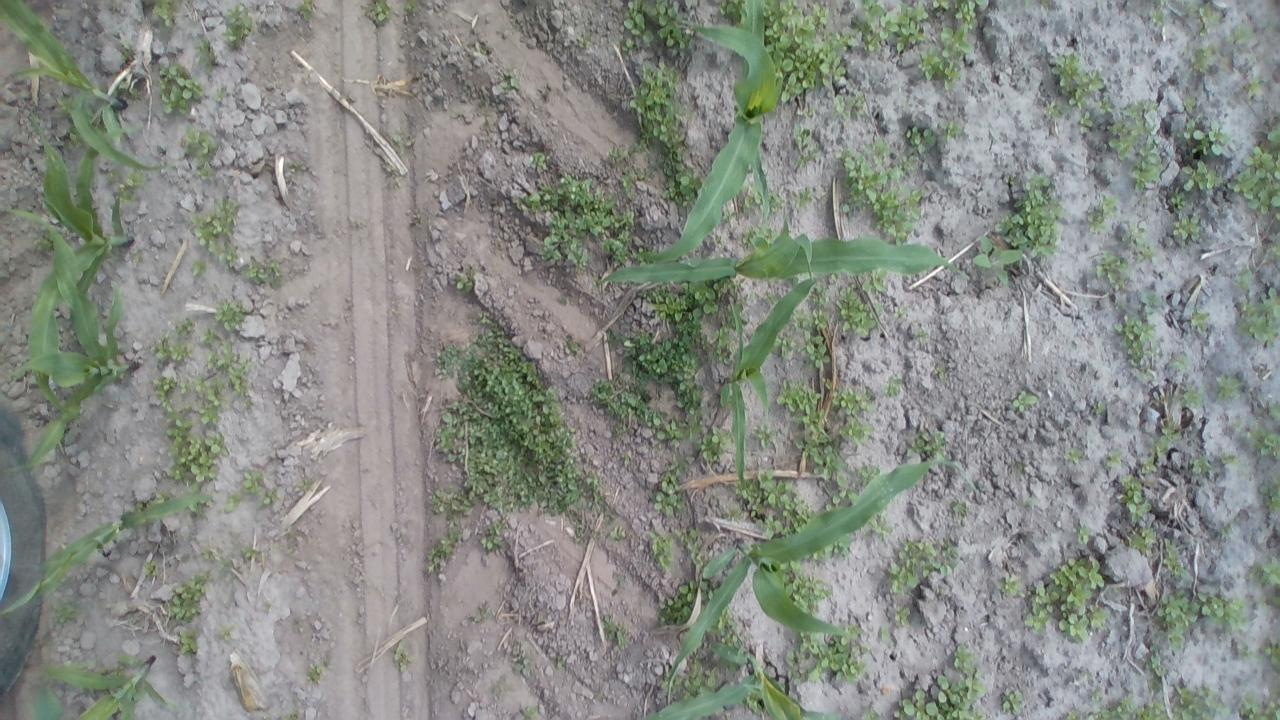Maize: (667, 460, 952, 706), (633, 0, 786, 263), (22, 113, 138, 420), (7, 209, 138, 476), (597, 207, 962, 282), (0, 0, 158, 172), (0, 492, 213, 614), (720, 272, 824, 494), (654, 636, 842, 720), (33, 656, 179, 718)
Weeds: (427, 313, 614, 518), (524, 176, 632, 269), (761, 0, 856, 104), (606, 322, 701, 420), (840, 150, 924, 240), (182, 327, 255, 423), (776, 373, 842, 478), (1032, 557, 1112, 642), (998, 174, 1062, 258), (924, 0, 988, 79), (1229, 121, 1280, 220), (630, 60, 684, 146), (892, 674, 987, 718), (620, 0, 690, 56), (887, 538, 959, 592), (166, 420, 224, 483), (797, 633, 867, 685), (588, 376, 652, 430), (1051, 52, 1106, 107), (1116, 312, 1158, 384), (220, 469, 278, 516), (1234, 285, 1278, 346), (784, 564, 834, 613), (736, 470, 796, 510), (158, 64, 205, 115), (1144, 419, 1181, 481), (972, 237, 1019, 285), (1056, 693, 1139, 720), (426, 522, 468, 575), (662, 151, 703, 205), (1231, 418, 1280, 463), (836, 289, 880, 339), (193, 196, 240, 242), (1198, 594, 1252, 634), (168, 574, 210, 622), (1184, 117, 1232, 158), (860, 0, 894, 54), (1133, 142, 1168, 193), (1174, 684, 1227, 717), (648, 468, 686, 514), (894, 3, 928, 53), (1158, 591, 1198, 632), (1118, 475, 1150, 523), (1183, 160, 1225, 195), (1094, 252, 1131, 290), (180, 124, 217, 162), (242, 253, 279, 290), (740, 186, 790, 213), (648, 413, 691, 444), (1108, 118, 1143, 156), (800, 329, 833, 369), (644, 284, 686, 315), (600, 614, 632, 654), (680, 658, 716, 693), (702, 324, 734, 362), (223, 6, 253, 46), (698, 426, 728, 463), (214, 300, 252, 327), (1086, 194, 1113, 231), (618, 166, 650, 197), (688, 284, 718, 317), (792, 131, 818, 169), (650, 532, 676, 570), (1116, 221, 1150, 250), (824, 475, 856, 505), (908, 432, 946, 457), (792, 304, 828, 330), (1163, 538, 1188, 575), (212, 241, 240, 274), (834, 388, 872, 412), (782, 500, 814, 528), (153, 337, 191, 360), (906, 127, 938, 154), (1125, 98, 1159, 123), (868, 513, 897, 542), (1176, 383, 1205, 412), (118, 172, 146, 202), (1240, 696, 1278, 718), (658, 596, 692, 620), (1146, 0, 1176, 27), (1214, 373, 1245, 399), (604, 147, 632, 175), (840, 417, 874, 440), (452, 264, 478, 294), (498, 65, 524, 95), (1224, 22, 1256, 46), (834, 96, 866, 120), (150, 0, 178, 27), (861, 270, 890, 296), (482, 518, 504, 552), (1254, 556, 1277, 588), (1128, 526, 1156, 552), (392, 640, 413, 674), (1145, 644, 1167, 676), (1138, 290, 1164, 317), (722, 612, 741, 648), (467, 602, 498, 624), (1190, 307, 1212, 338), (511, 644, 531, 678), (1174, 214, 1202, 238), (679, 580, 712, 600), (1196, 6, 1221, 32), (757, 513, 781, 540), (1193, 43, 1215, 72), (1009, 390, 1039, 411), (1258, 478, 1277, 511), (1242, 72, 1264, 100), (754, 423, 776, 450), (774, 333, 796, 360), (1191, 452, 1212, 480), (195, 37, 216, 65), (1000, 689, 1024, 713), (366, 1, 390, 25), (955, 644, 976, 671), (1075, 520, 1095, 548), (1075, 110, 1094, 139), (676, 527, 704, 546), (1044, 99, 1067, 122), (574, 32, 596, 56), (1226, 638, 1248, 662), (939, 118, 961, 142), (1137, 702, 1169, 718), (391, 124, 412, 148), (154, 378, 175, 402), (668, 453, 692, 474), (834, 532, 854, 557), (1262, 639, 1278, 670), (1168, 351, 1191, 372), (1168, 190, 1188, 214), (216, 556, 235, 580), (856, 464, 881, 482), (293, 1, 314, 22), (56, 602, 78, 622), (180, 632, 200, 654), (608, 524, 630, 544), (890, 300, 910, 322), (610, 569, 626, 596), (884, 379, 905, 399), (139, 560, 160, 580), (1261, 591, 1280, 613), (1001, 576, 1020, 598), (1260, 398, 1280, 418), (30, 230, 50, 250), (172, 317, 192, 337), (737, 225, 756, 246), (238, 544, 259, 563), (212, 622, 230, 644), (529, 150, 548, 170), (794, 186, 814, 205), (891, 604, 910, 624), (54, 98, 74, 117), (1063, 445, 1083, 464), (807, 286, 828, 304), (796, 103, 819, 119), (689, 552, 708, 571), (729, 276, 749, 294), (1104, 450, 1122, 470), (195, 163, 212, 184), (1230, 266, 1252, 282), (196, 548, 214, 567), (518, 703, 538, 720), (401, 0, 422, 16), (913, 326, 929, 347), (210, 85, 229, 102), (1218, 449, 1235, 468), (1009, 460, 1032, 474), (190, 258, 206, 278), (154, 490, 176, 504), (306, 660, 320, 682), (814, 546, 832, 563), (1268, 231, 1280, 256), (868, 138, 891, 150), (573, 524, 586, 545), (879, 626, 892, 647), (936, 360, 949, 380), (296, 475, 312, 491), (552, 655, 568, 671), (1139, 245, 1156, 260), (412, 209, 424, 229), (1088, 686, 1104, 701), (950, 502, 967, 516), (766, 286, 780, 302), (294, 616, 304, 638), (107, 664, 125, 676), (764, 226, 776, 243), (260, 600, 272, 617), (720, 208, 734, 222), (1090, 402, 1104, 416), (728, 509, 742, 522), (1181, 94, 1194, 108), (624, 452, 632, 468), (276, 715, 301, 720), (1024, 496, 1034, 508), (712, 234, 722, 244), (287, 160, 297, 168)
